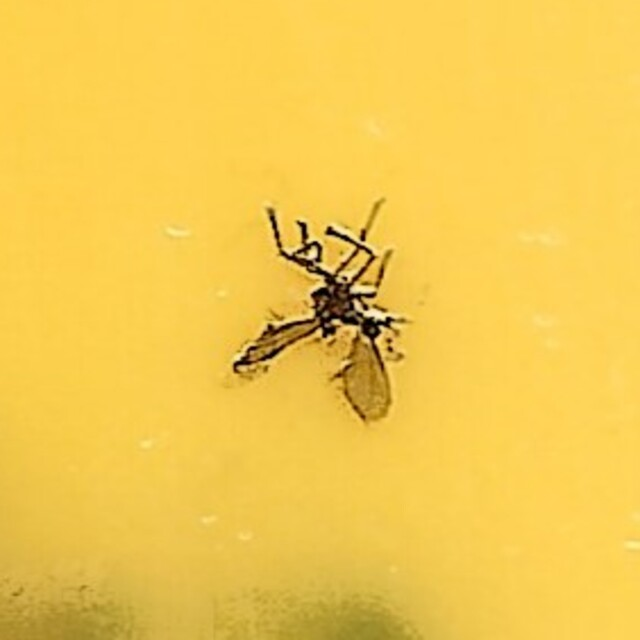Nematocera: (227, 210, 413, 430)
